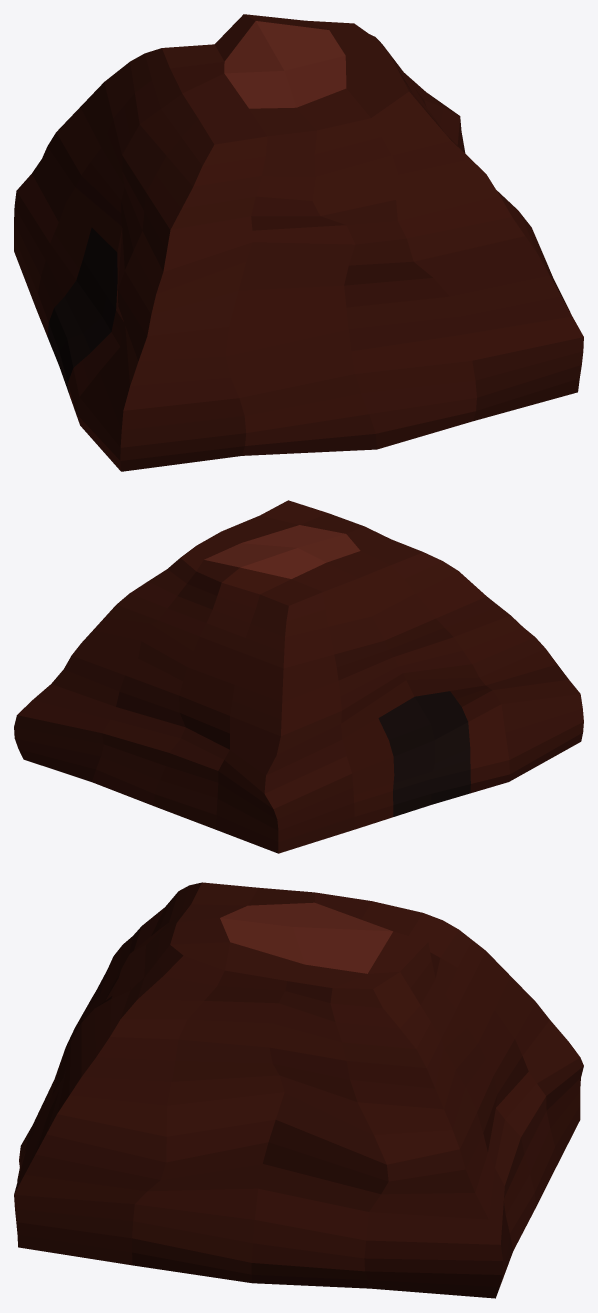
The model's file is Cave1.fbx.
3 renders of one model, top to bottom at view 1: azimuth 30°, elevation 25°; view 2: azimuth 150°, elevation 25°; view 3: azimuth 270°, elevation 25°, orthographic. The views are drawn at different scales.
Visible parts, largest first — view 1: cave entrance 1.001, cave entrance 1, top cave1; view 2: cave entrance 1.001, cave entrance 1, top cave1; view 3: cave entrance 1.001, top cave1.
Boxes of the visible parts, left/top/right/bottom form: cave entrance 1.001: left=14, top=14, right=583, bottom=471; cave entrance 1: left=36, top=202, right=124, bottom=415; top cave1: left=224, top=21, right=346, bottom=108; cave entrance 1.001: left=14, top=500, right=583, bottom=853; cave entrance 1: left=342, top=685, right=509, bottom=829; top cave1: left=204, top=525, right=360, bottom=578; cave entrance 1.001: left=14, top=882, right=583, bottom=1298; top cave1: left=220, top=902, right=392, bottom=973.
Bounding box in the file's own units: 803 × 403 × 772.
3 materials, 3 textured.
